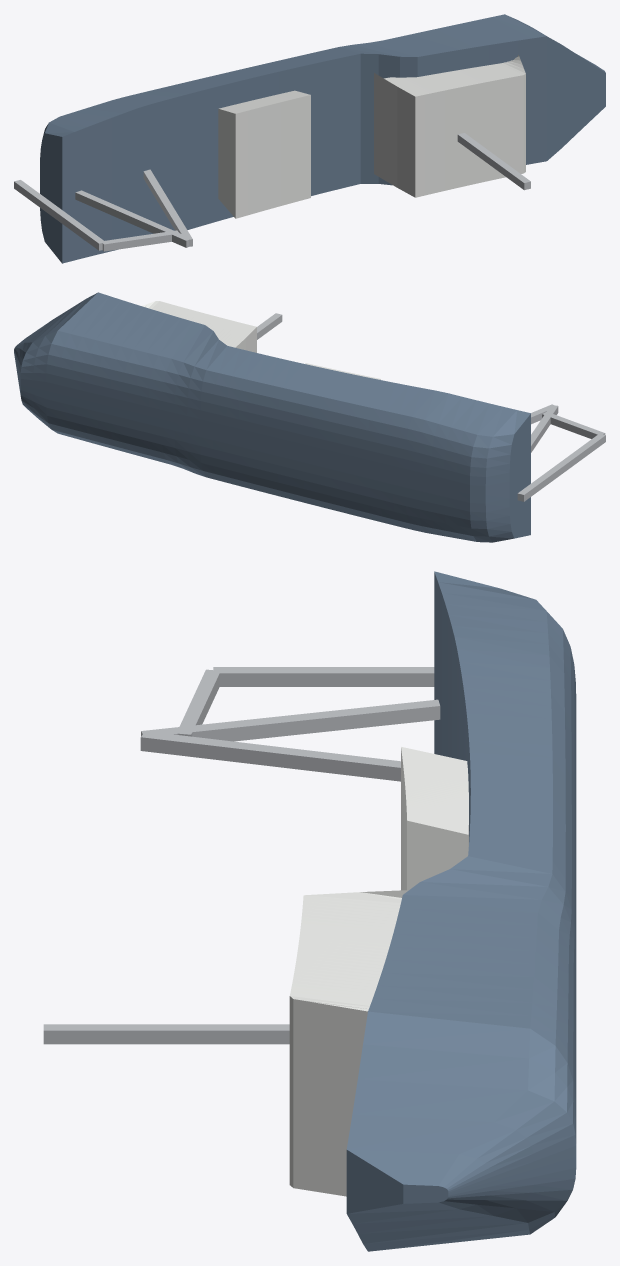
Rendered from loft-dive-support-sheered.glb.
3 renders of one model, top to bottom at view 1: azimuth 30°, elevation 25°; view 2: azimuth 150°, elevation 25°; view 3: azimuth 270°, elevation 25°, orthographic. The views are drawn at different scales.
Visible parts, largest first — view 1: loft-dive-support-sheered; view 2: loft-dive-support-sheered; view 3: loft-dive-support-sheered.
Part boxes in pixels (box(x1,y1,x2,y2)): loft-dive-support-sheered: box(14, 14, 605, 263); loft-dive-support-sheered: box(14, 292, 605, 542); loft-dive-support-sheered: box(43, 571, 576, 1251).
Size of the model in its own units: 1.95 by 0.4611 by 0.8445.
